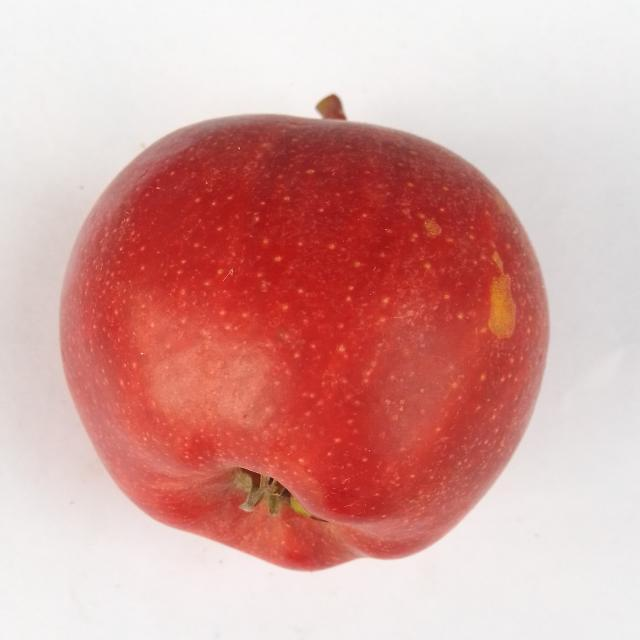Fresh Apple: (60, 101, 552, 572)
